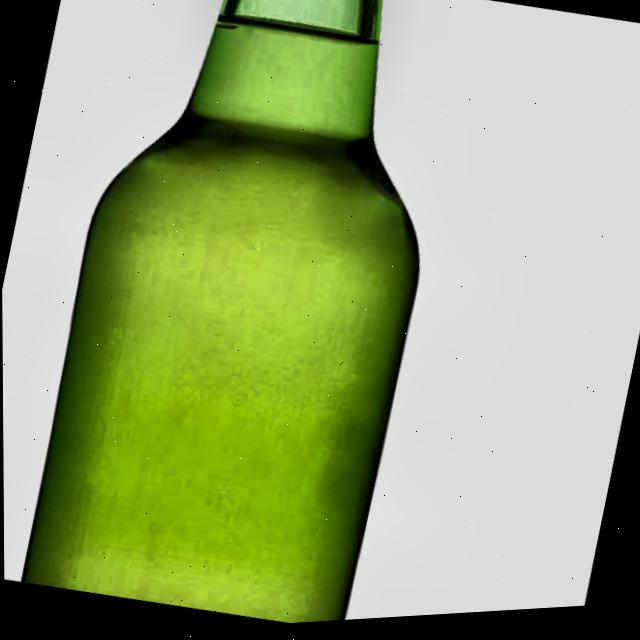glass: (21, 0, 418, 627)
